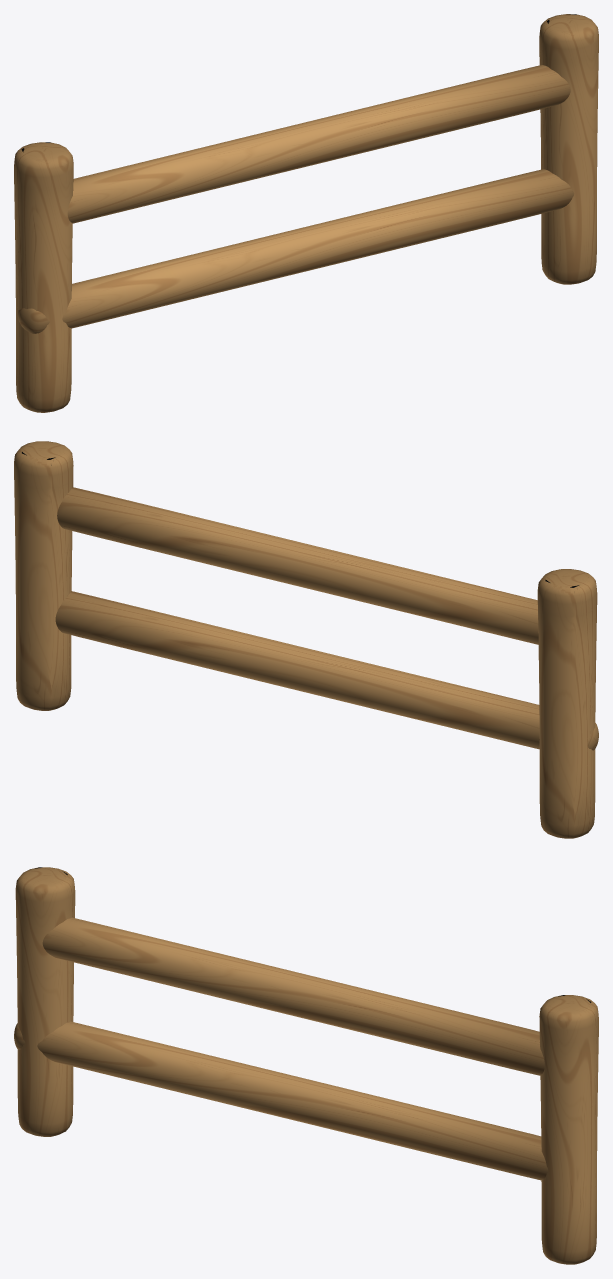
File: fence1.glb
The picture shows the model from 3 angles, top to bottom: view 1: azimuth 30°, elevation 25°; view 2: azimuth 150°, elevation 25°; view 3: azimuth 330°, elevation 25°; orthographic projection.
Visible parts, largest first — view 1: Cube.016, Cube.017, Cube.021, Cube.019; view 2: Cube.016, Cube.017, Cube.021, Cube.019; view 3: Cube.016, Cube.017, Cube.019, Cube.021.
Part boxes in pixels (x1=…): Cube.016: x1=17, y1=169, x2=574, y2=333; Cube.017: x1=67, y1=65, x2=570, y2=223; Cube.021: x1=14, y1=142, x2=73, y2=412; Cube.019: x1=539, y1=14, x2=598, y2=284; Cube.016: x1=55, y1=591, x2=598, y2=750; Cube.017: x1=57, y1=487, x2=538, y2=644; Cube.021: x1=537, y1=569, x2=597, y2=838; Cube.019: x1=14, y1=441, x2=73, y2=710; Cube.016: x1=14, y1=1021, x2=548, y2=1180; Cube.017: x1=42, y1=917, x2=544, y2=1075; Cube.019: x1=539, y1=995, x2=598, y2=1264; Cube.021: x1=15, y1=867, x2=75, y2=1136.
Size of the model in its own units: 3.87 by 1.65 by 0.345.
Materials: 1 (1 with a texture image).
